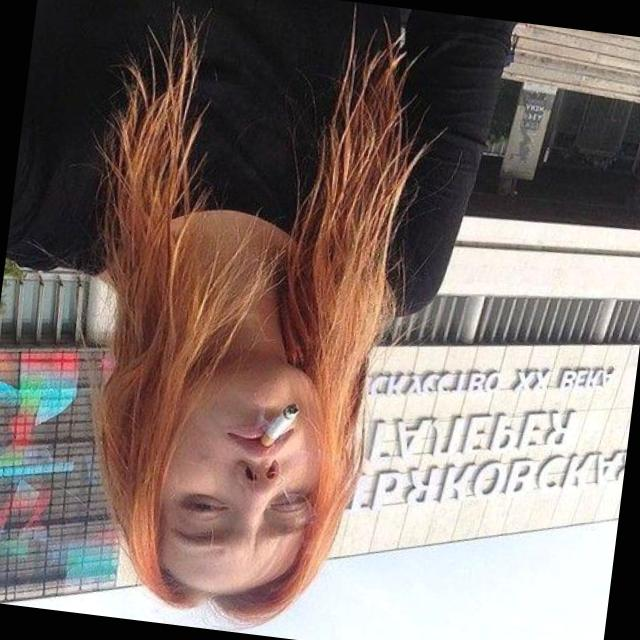smoke: (256, 388, 304, 463)
